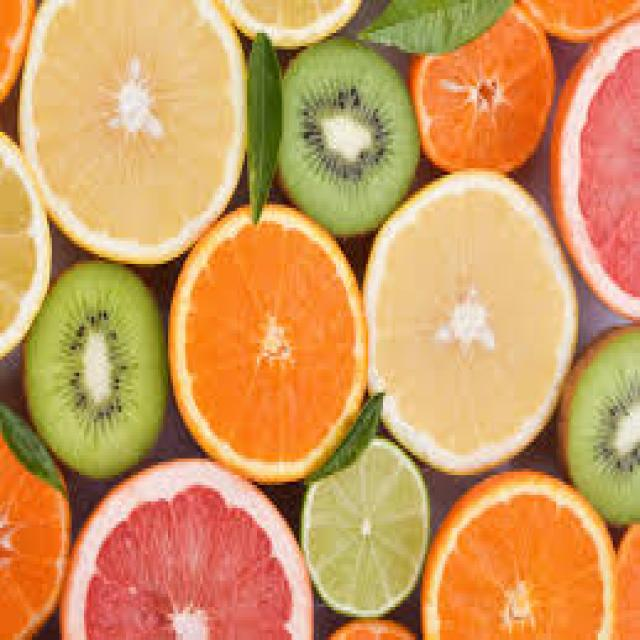orange: (165, 200, 377, 480)
